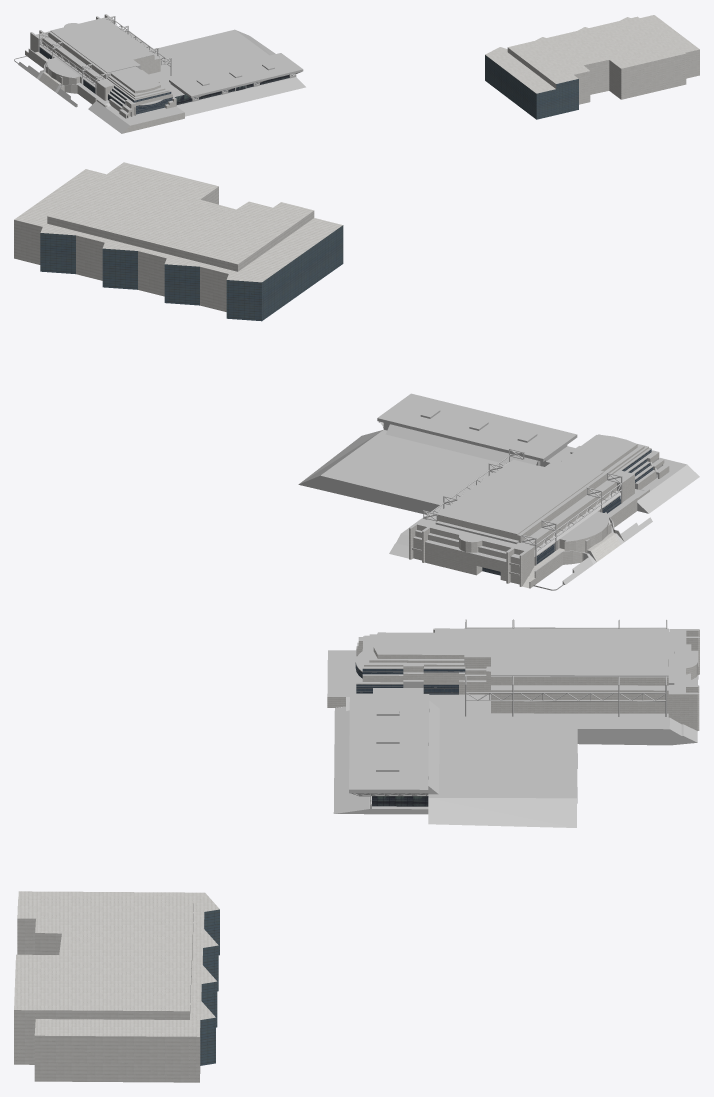
File: Moscone.FBX
3 renders of one model, top to bottom at view 1: azimuth 30°, elevation 25°; view 2: azimuth 150°, elevation 25°; view 3: azimuth 270°, elevation 25°, orthographic. The views are drawn at different scales.
Parts seen in each view (by area): view 1: mosconewest, Moscone, Moscone_Center; view 2: mosconewest, Moscone, Moscone_Center; view 3: Moscone, mosconewest, Moscone_Center.
Boxes of the visible parts, left/top/right/bottom form: mosconewest: left=485, top=15, right=699, bottom=119; Moscone: left=39, top=16, right=305, bottom=133; Moscone_Center: left=14, top=14, right=160, bottom=107; mosconewest: left=14, top=162, right=343, bottom=321; Moscone: left=298, top=393, right=699, bottom=565; Moscone_Center: left=409, top=459, right=652, bottom=590; Moscone: left=327, top=619, right=697, bottom=827; mosconewest: left=14, top=891, right=219, bottom=1082; Moscone_Center: left=459, top=628, right=699, bottom=730.
Bounding box in the file's own units: 426 × 25.61 × 285.
